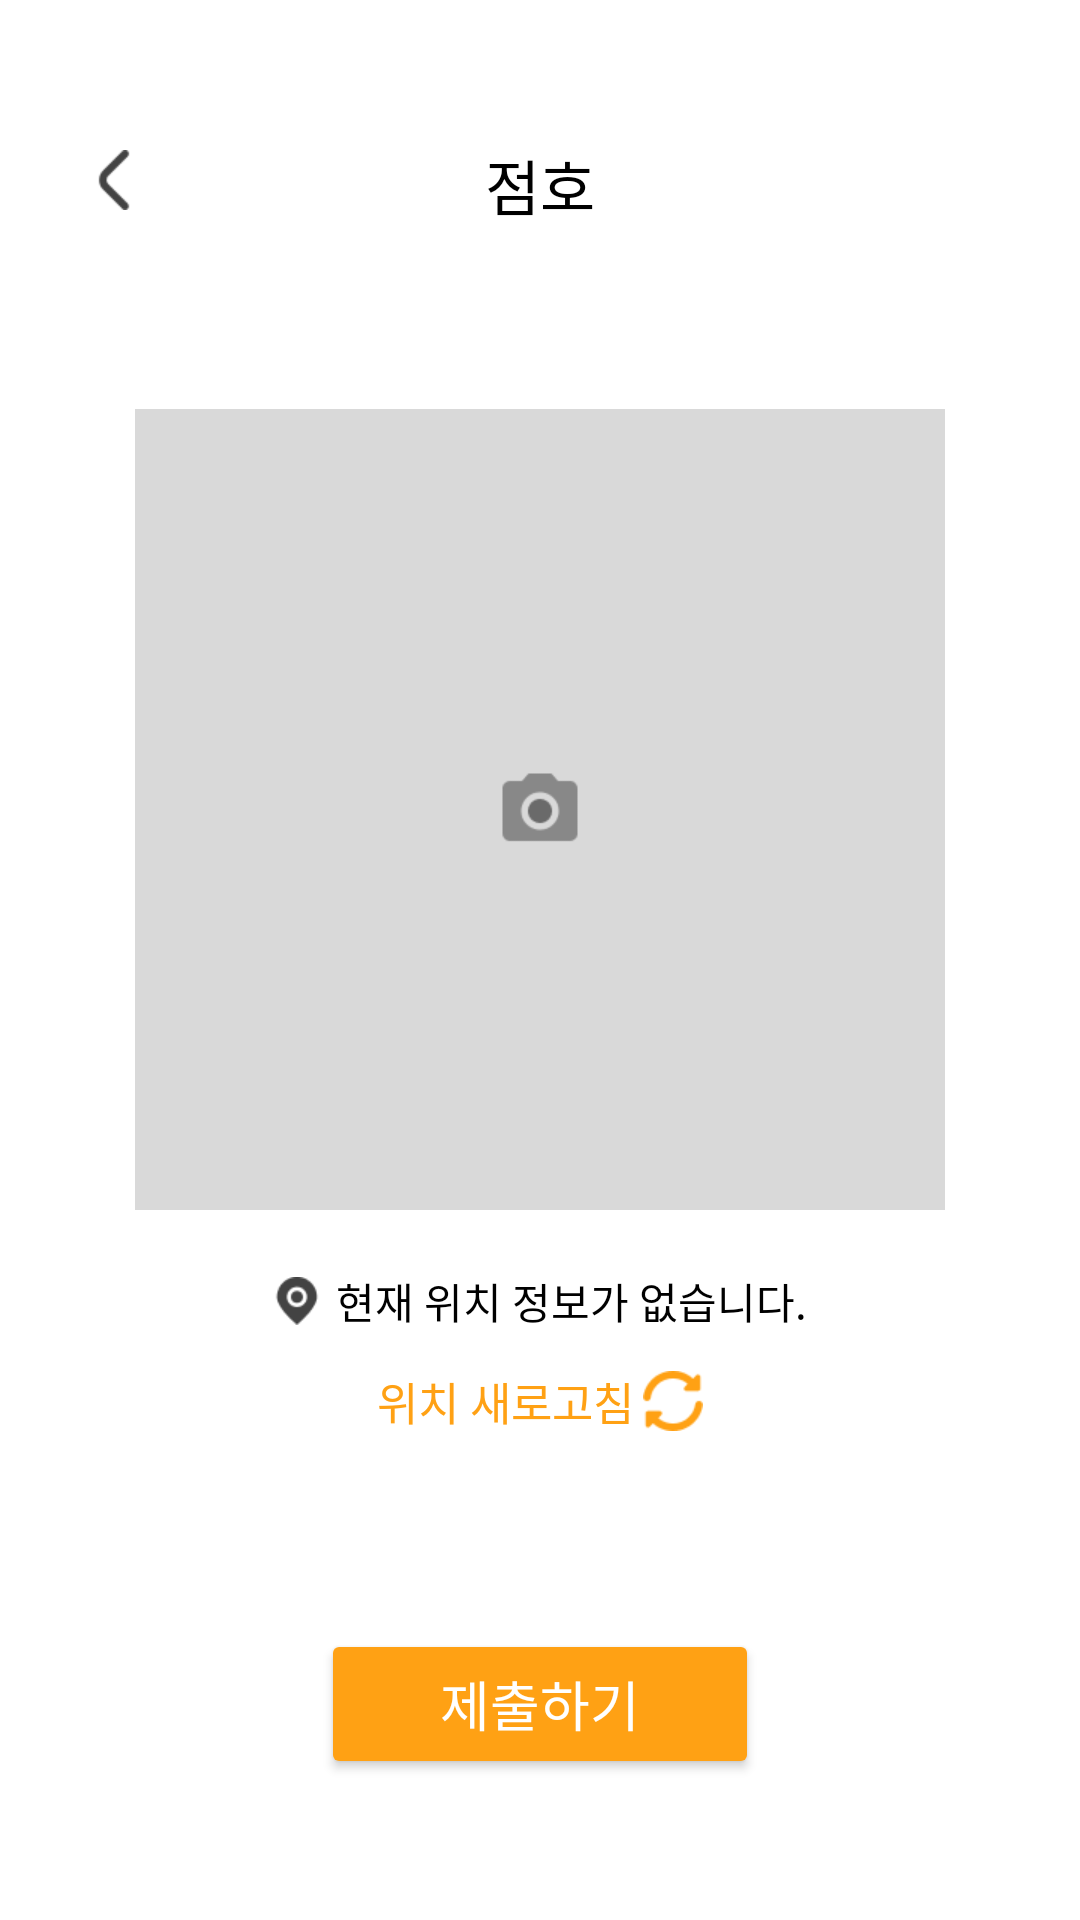

Where icons sit on this 1080 x 1920 app screen, as region(x1, y1, x2, y2):
back: region(98, 150, 130, 210)
rollcall marker: region(276, 1277, 318, 1325)
rollcall refresh: region(643, 1371, 703, 1431)
